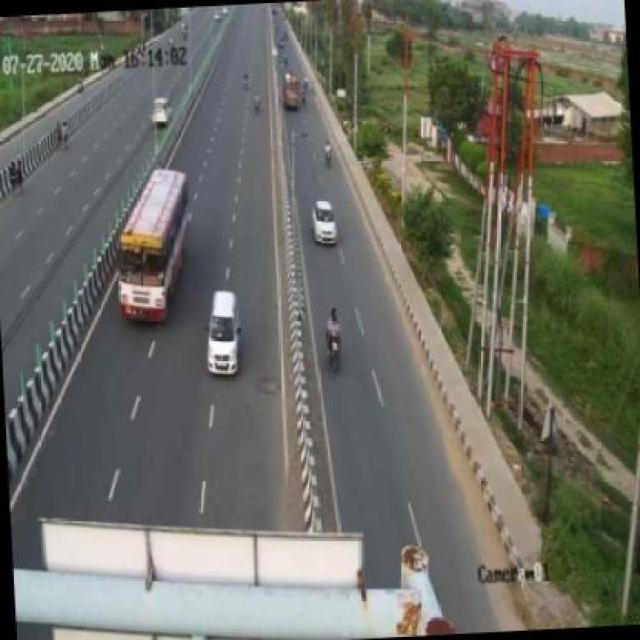car: (196, 286, 250, 380), (304, 191, 342, 252), (146, 95, 179, 128)
